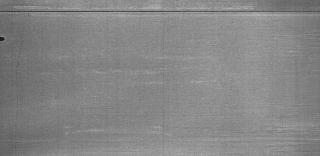punching hole: (0, 32, 4, 44)
welding line: (1, 8, 320, 20)
